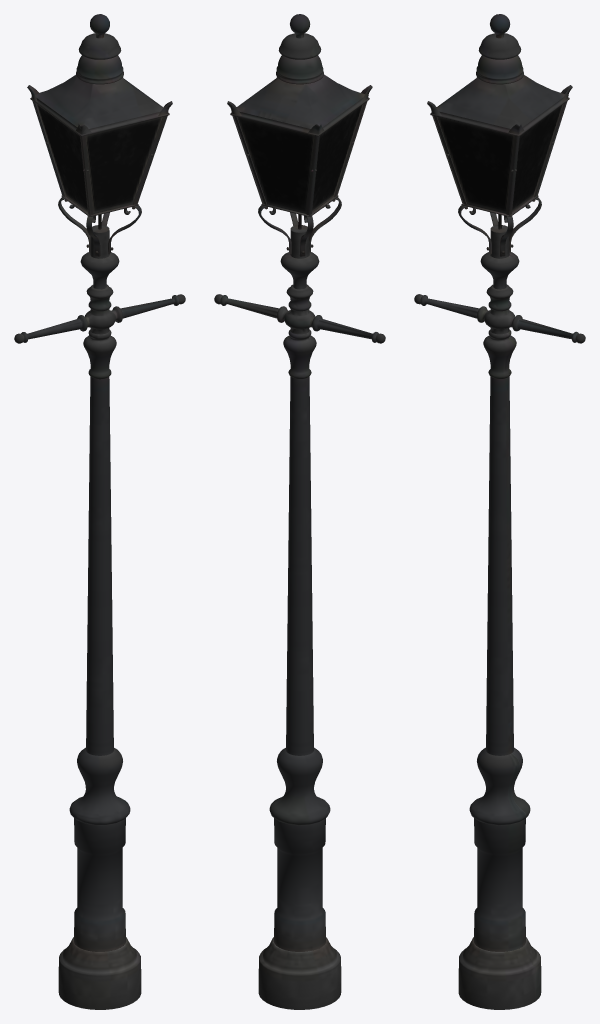
The model's file is lamp.glb.
3 renders of one model, left to right at view 1: azimuth 30°, elevation 25°; view 2: azimuth 150°, elevation 25°; view 3: azimuth 330°, elevation 25°, orthographic.
Visible parts, largest first — view 1: street_lamp_01; view 2: street_lamp_01; view 3: street_lamp_01.
Boxes of the visible parts, x1=… form: street_lamp_01: x1=14, y1=14, x2=185, y2=1009; street_lamp_01: x1=214, y1=14, x2=385, y2=1009; street_lamp_01: x1=414, y1=14, x2=585, y2=1009.
Bounding box in the file's own units: 0.7043 × 3.87 × 0.3858.
3 materials, 3 textured.
